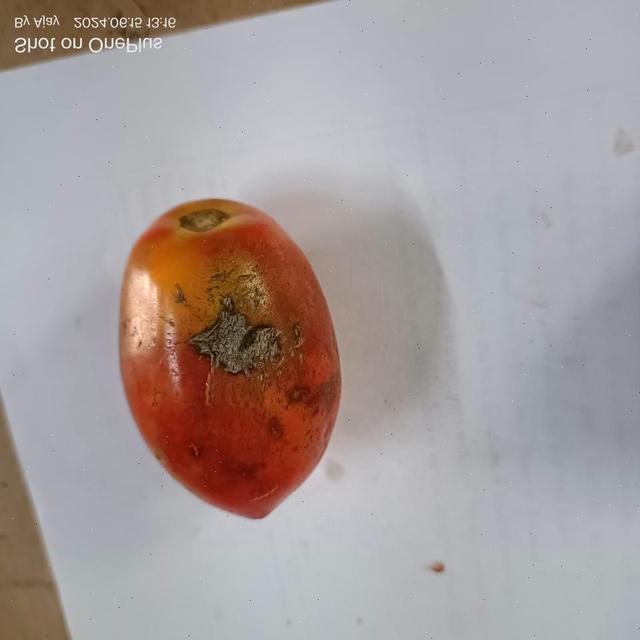Bacterial Spot Fruit: (124, 201, 204, 252)
